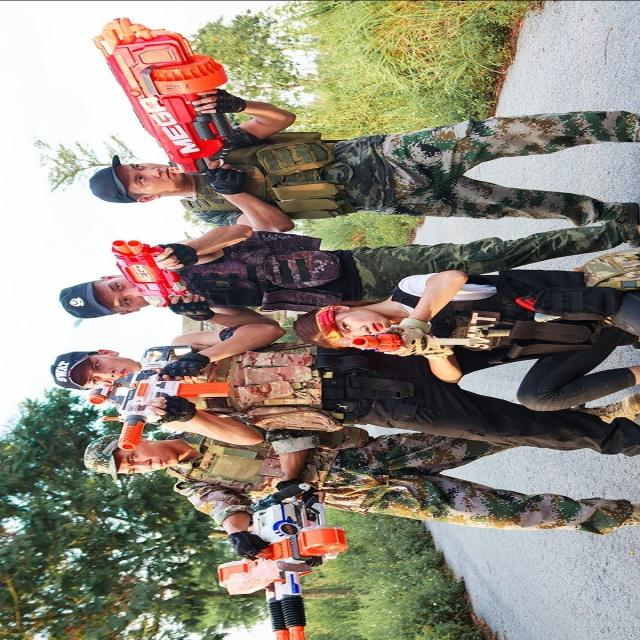Nerf gun: (85, 7, 233, 177), (214, 480, 356, 640), (90, 346, 232, 452), (108, 237, 202, 310), (338, 322, 485, 362)
